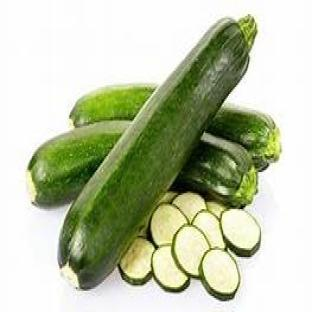Zucchini: (59, 16, 256, 288), (28, 121, 130, 207), (174, 133, 257, 205), (208, 105, 281, 170), (70, 84, 155, 127), (200, 249, 239, 301), (221, 210, 260, 257), (173, 226, 209, 276), (152, 245, 189, 292), (119, 238, 155, 285), (150, 204, 187, 246), (193, 211, 225, 249), (173, 192, 206, 223), (207, 201, 227, 219), (159, 192, 177, 203)
